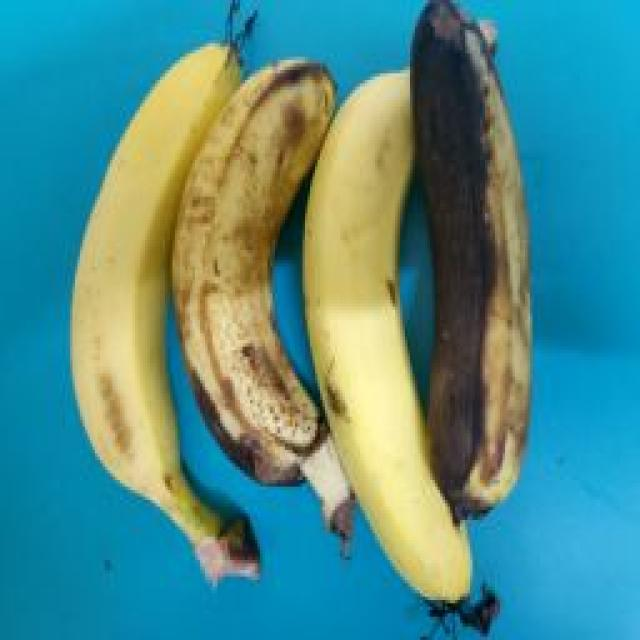Organik: (72, 23, 264, 595), (304, 44, 489, 632), (162, 31, 345, 530), (397, 9, 573, 512)
